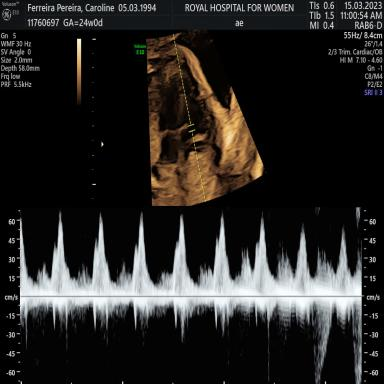Ultrasound-Waves: (27, 205, 359, 384)
